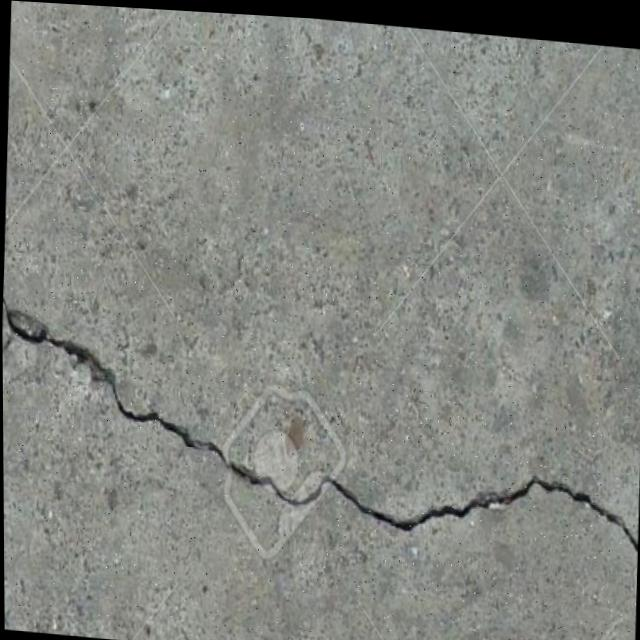Crack: (2, 286, 640, 568)
